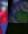potion: (0, 0, 8, 23), (0, 23, 8, 34)
